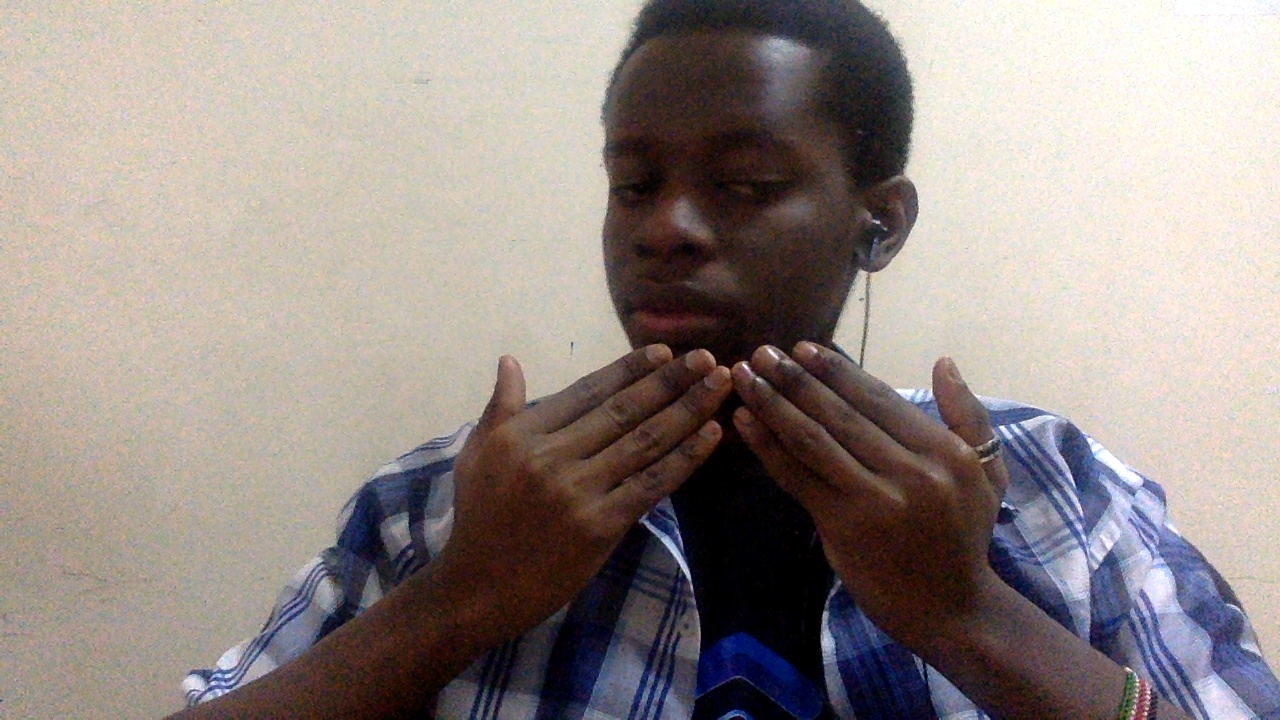ThankYou: (448, 340, 1011, 615)
